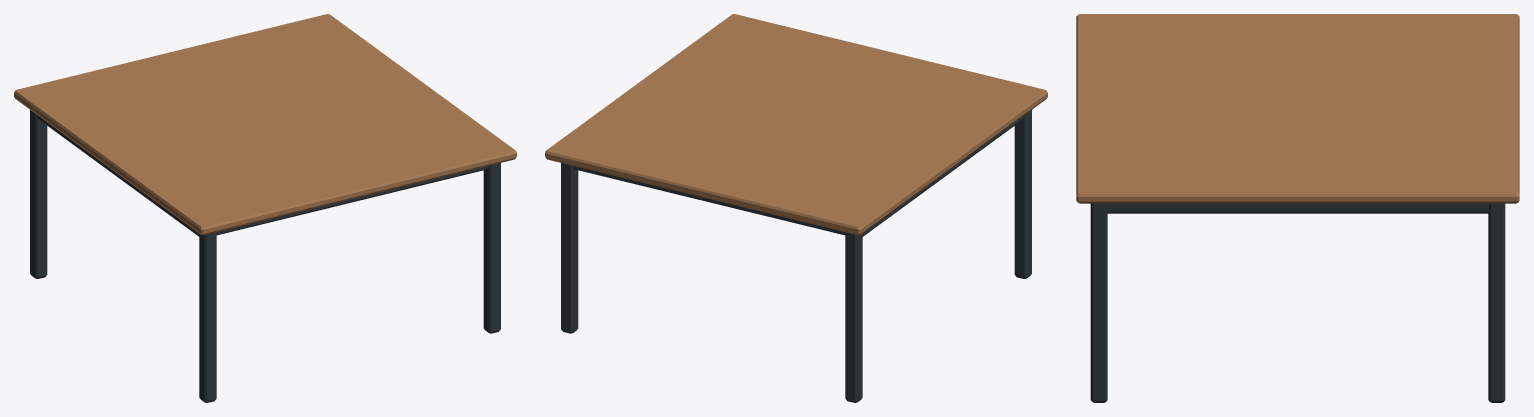
File: mesa-grupo.obj
3 renders of one model, left to right at view 1: azimuth 30°, elevation 25°; view 2: azimuth 150°, elevation 25°; view 3: azimuth 270°, elevation 25°, orthographic. The views are drawn at different scales.
Visible parts, largest first — view 1: mesa-grupo_carvalho, mesa-grupo_metal_escuro; view 2: mesa-grupo_carvalho, mesa-grupo_metal_escuro; view 3: mesa-grupo_carvalho, mesa-grupo_metal_escuro.
Boxes of the visible parts, bbox=[...] form: mesa-grupo_carvalho: bbox=[14, 14, 516, 235]; mesa-grupo_metal_escuro: bbox=[30, 110, 500, 402]; mesa-grupo_carvalho: bbox=[545, 14, 1047, 235]; mesa-grupo_metal_escuro: bbox=[561, 110, 1031, 402]; mesa-grupo_carvalho: bbox=[1076, 14, 1519, 203]; mesa-grupo_metal_escuro: bbox=[1090, 203, 1505, 402].
Bounding box in the file's own units: 1.41 × 0.78 × 1.46.
